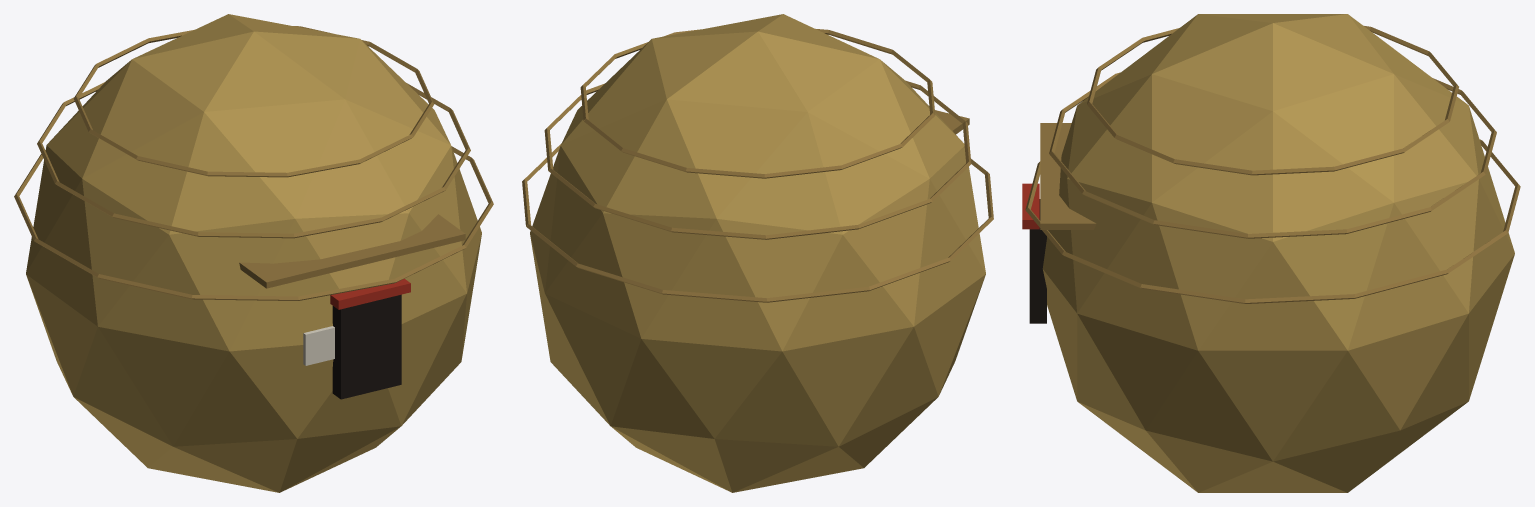
The model's file is elephant_hall_broken.glb.
3 renders of one model, left to right at view 1: azimuth 30°, elevation 25°; view 2: azimuth 150°, elevation 25°; view 3: azimuth 270°, elevation 25°, orthographic. The views are drawn at different scales.
Parts seen in each view (by area): view 1: elephant_hall_piece8, elephant_hall_piece0, elephant_hall_piece2, elephant_hall_piece5, elephant_hall_piece13, elephant_hall_piece10, elephant_hall_piece3, elephant_hall_piece12, elephant_hall_piece7, elephant_hall_piece1, elephant_hall_piece11; view 2: elephant_hall_piece6, elephant_hall_piece1, elephant_hall_piece5, elephant_hall_piece8, elephant_hall_piece11, elephant_hall_piece3, elephant_hall_piece2, elephant_hall_piece9, elephant_hall_piece4, elephant_hall_piece12; view 3: elephant_hall_piece1, elephant_hall_piece4, elephant_hall_piece2, elephant_hall_piece10, elephant_hall_piece0, elephant_hall_piece7, elephant_hall_piece11, elephant_hall_piece3, elephant_hall_piece13, elephant_hall_piece6.
Boxes of the visible parts, left/top/right/bottom form: elephant_hall_piece8: left=30, top=149, right=250, bottom=460; elephant_hall_piece0: left=246, top=142, right=476, bottom=438; elephant_hall_piece2: left=185, top=18, right=427, bottom=315; elephant_hall_piece5: left=14, top=86, right=232, bottom=432; elephant_hall_piece13: left=227, top=371, right=445, bottom=492; elephant_hall_piece10: left=403, top=84, right=493, bottom=335; elephant_hall_piece3: left=44, top=36, right=218, bottom=375; elephant_hall_piece12: left=109, top=431, right=243, bottom=482; elephant_hall_piece7: left=350, top=234, right=481, bottom=459; elephant_hall_piece1: left=169, top=14, right=383, bottom=53; elephant_hall_piece11: left=89, top=34, right=186, bottom=92; elephant_hall_piece6: left=625, top=188, right=835, bottom=492; elephant_hall_piece1: left=523, top=60, right=716, bottom=482; elephant_hall_piece5: left=832, top=52, right=935, bottom=430; elephant_hall_piece8: left=903, top=69, right=993, bottom=427; elephant_hall_piece11: left=621, top=99, right=787, bottom=330; elephant_hall_piece3: left=739, top=52, right=891, bottom=463; elephant_hall_piece2: left=608, top=14, right=969, bottom=134; elephant_hall_piece9: left=780, top=155, right=862, bottom=472; elephant_hall_piece4: left=522, top=61, right=697, bottom=476; elephant_hall_piece12: left=831, top=426, right=902, bottom=474; elephant_hall_piece1: left=1290, top=56, right=1514, bottom=450; elephant_hall_piece4: left=1232, top=144, right=1414, bottom=492; elephant_hall_piece2: left=1040, top=16, right=1390, bottom=190; elephant_hall_piece10: left=1092, top=144, right=1269, bottom=375; elephant_hall_piece0: left=1022, top=137, right=1134, bottom=408; elephant_hall_piece7: left=1109, top=333, right=1318, bottom=492; elephant_hall_piece11: left=1363, top=40, right=1517, bottom=262; elephant_hall_piece3: left=1211, top=14, right=1405, bottom=45; elephant_hall_piece13: left=1072, top=386, right=1160, bottom=464; elephant_hall_piece6: left=1436, top=80, right=1520, bottom=302.
Bounding box in the file's own units: 2.91 × 2.98 × 2.93.
